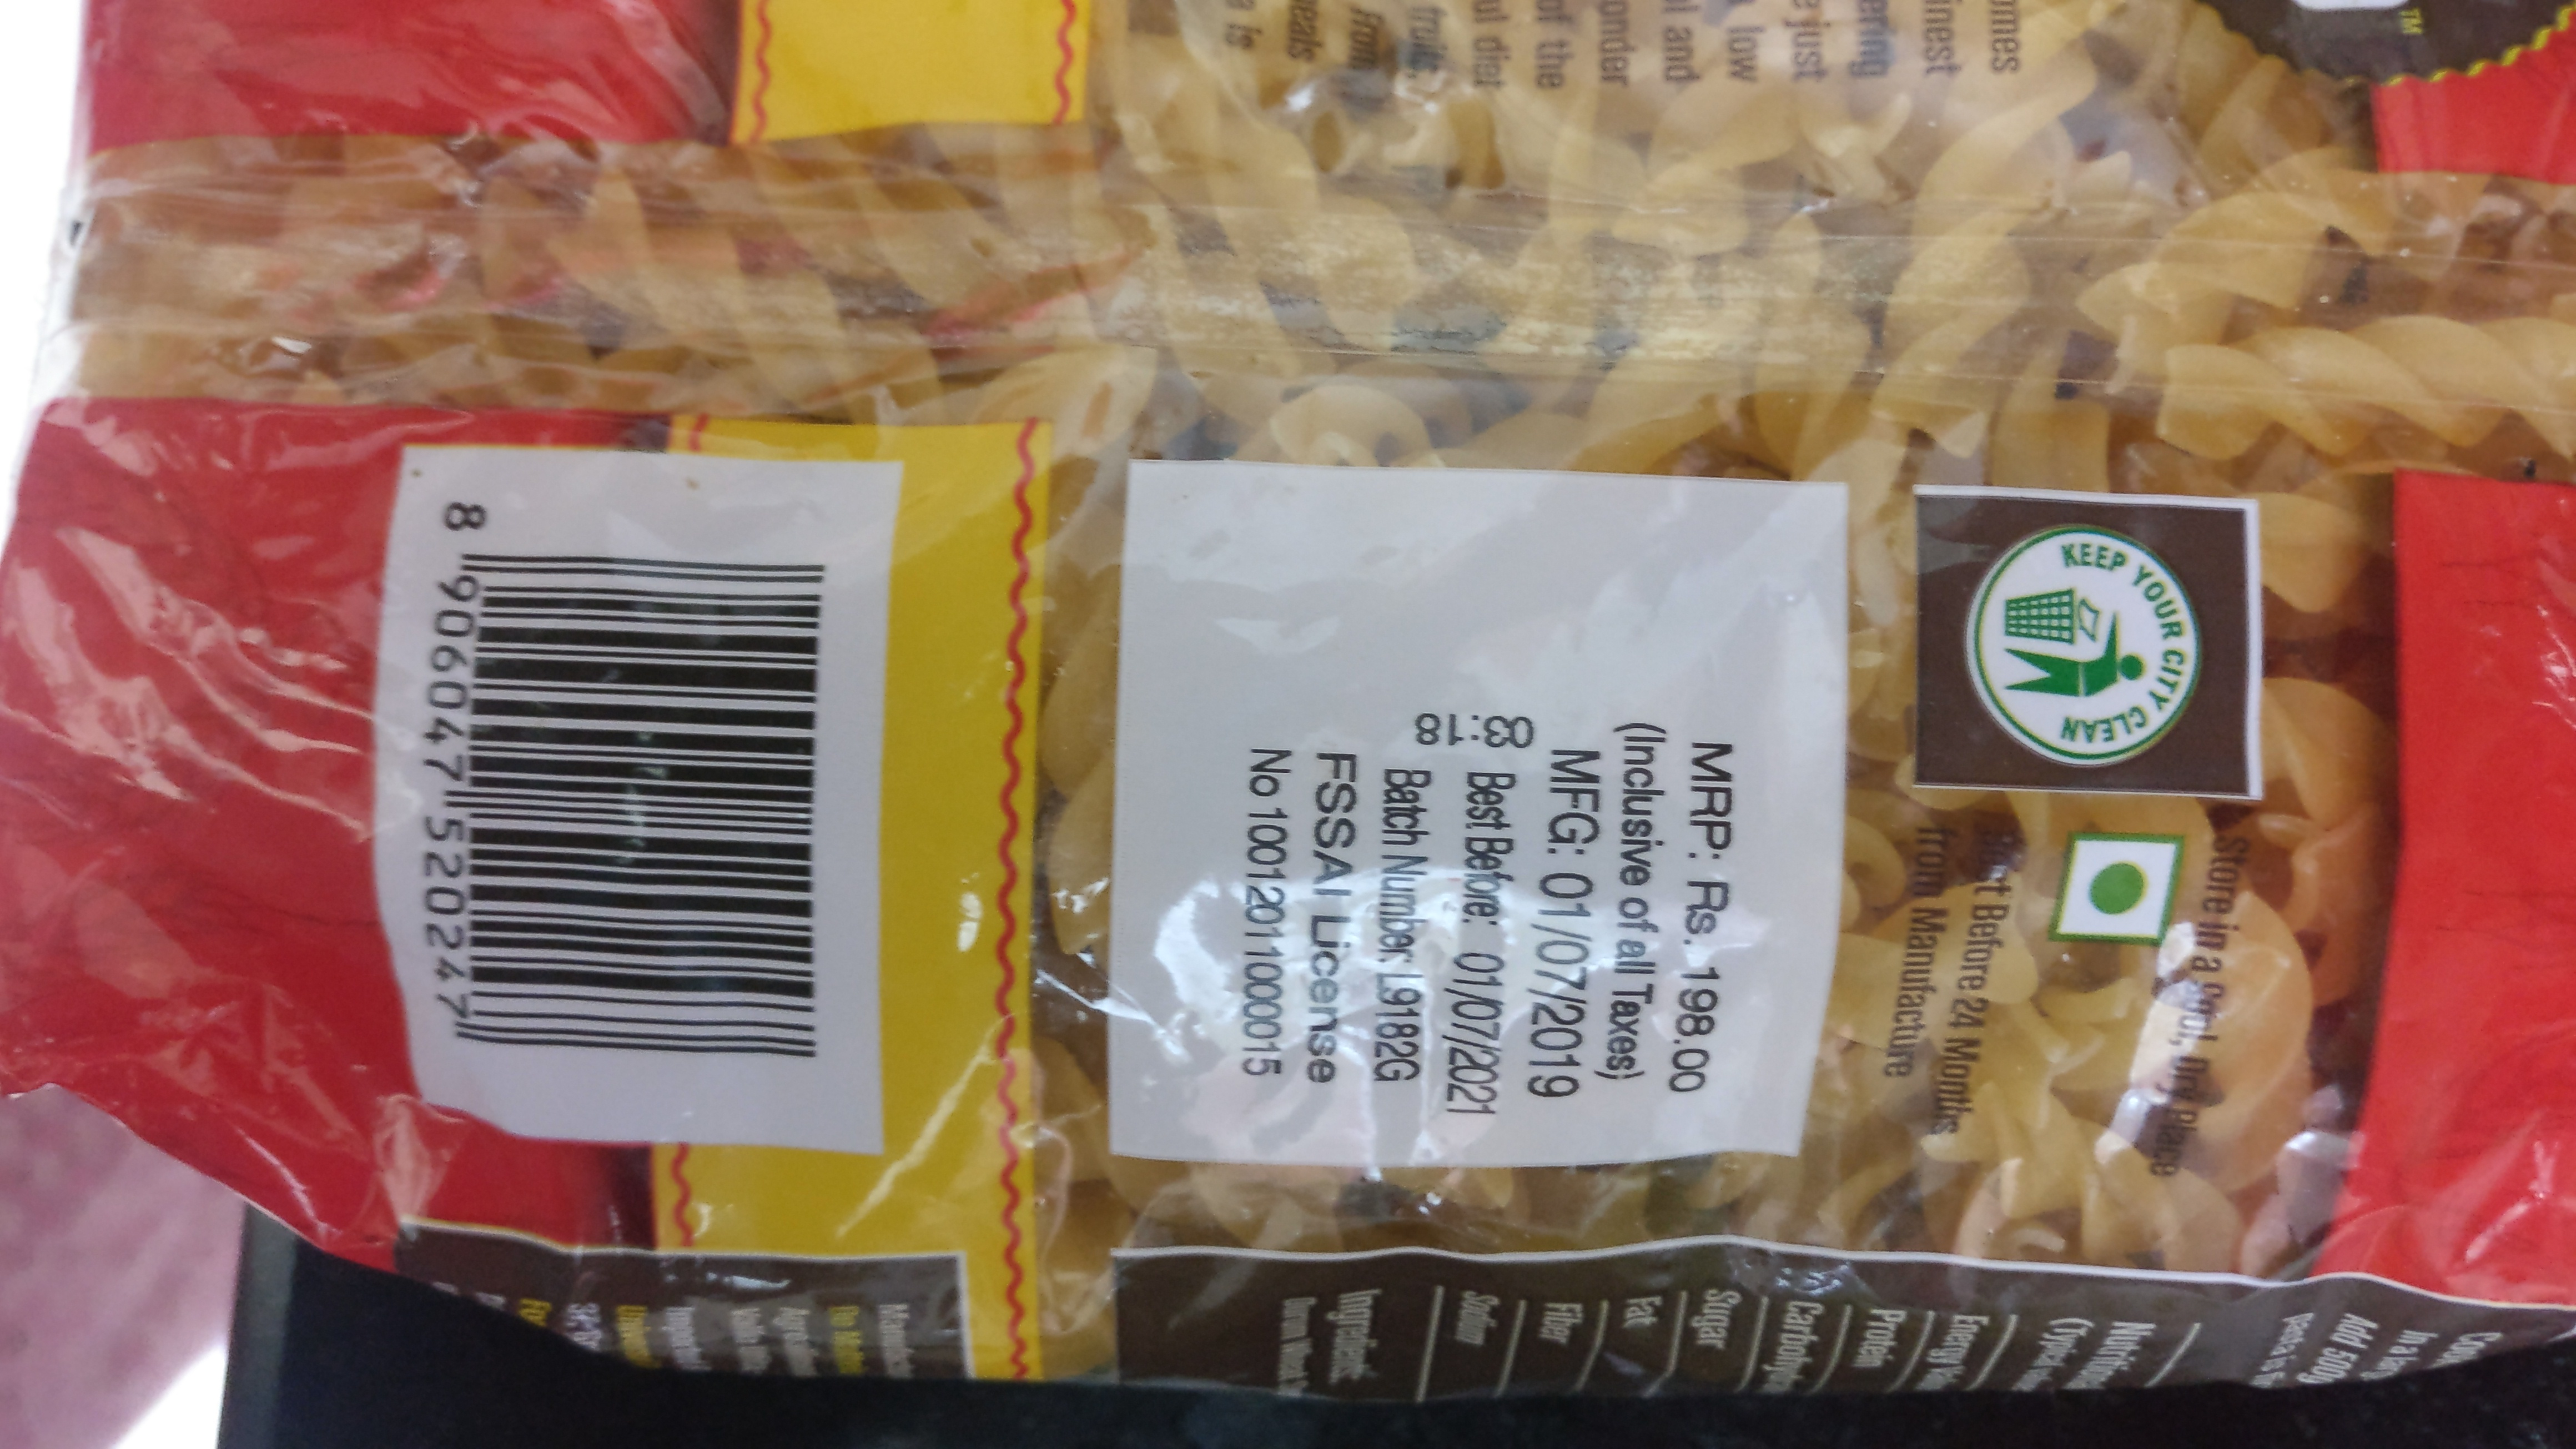barcode: (410, 481, 844, 1076)
